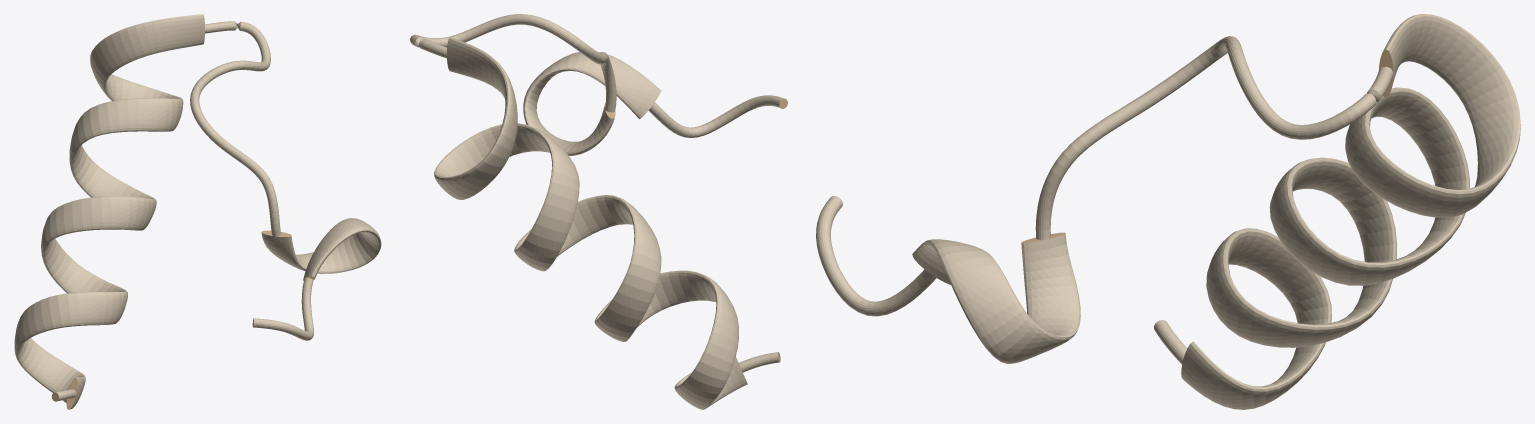
Rendered from rCoilfCoil.dae.
3 views of the same model, side by side, from view 1: azimuth 30°, elevation 25°; view 2: azimuth 150°, elevation 25°; view 3: azimuth 270°, elevation 25° (orthographic). The views are drawn at different scales.
Parts seen in each view (by area): view 1: Shape_IndexedTriangleSet; view 2: Shape_IndexedTriangleSet; view 3: Shape_IndexedTriangleSet.
Part boxes in pixels (x1,y1,x2,y2): Shape_IndexedTriangleSet: (14,14,381,409); Shape_IndexedTriangleSet: (410,14,787,409); Shape_IndexedTriangleSet: (816,14,1520,409).
Size of the model in its own units: 16.89 by 23.58 by 18.56.
